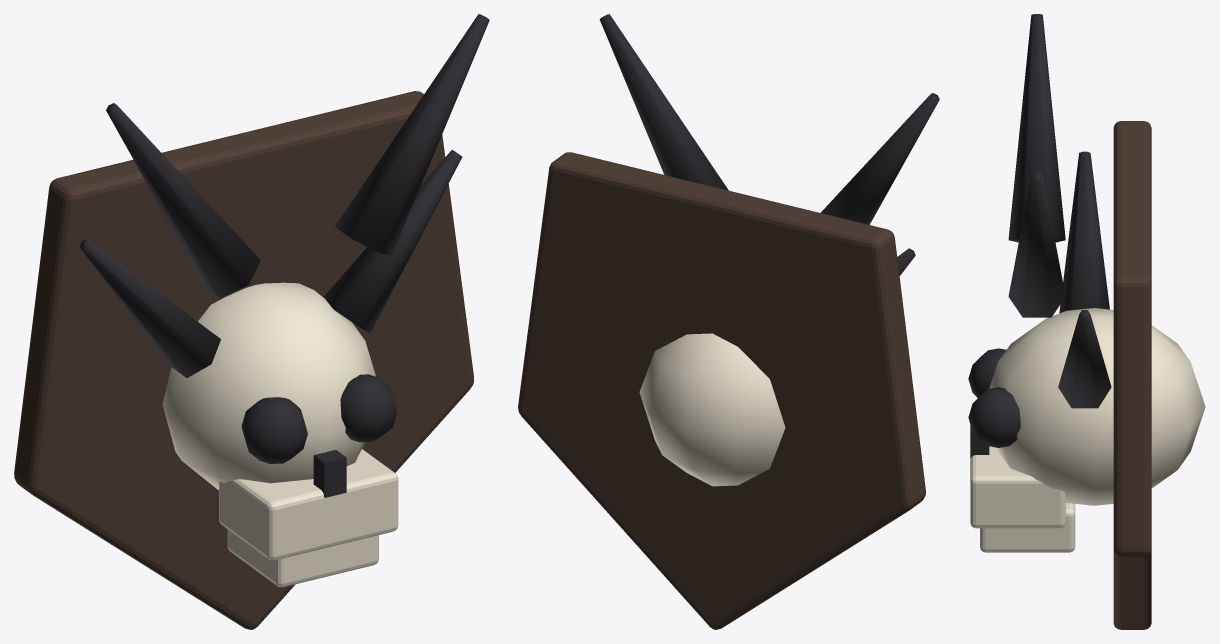
Rendered from skull_mount_demon.glb.
3 views of the same model, side by side, from view 1: azimuth 30°, elevation 25°; view 2: azimuth 150°, elevation 25°; view 3: azimuth 270°, elevation 25° (orthographic). The views are drawn at different scales.
Visible parts, largest first — view 1: GD_skull_mount_demon__m0, GD_skull_mount_demon__m1, GD_skull_mount_demon__m2; view 2: GD_skull_mount_demon__m0, GD_skull_mount_demon__m1, GD_skull_mount_demon__m2; view 3: GD_skull_mount_demon__m1, GD_skull_mount_demon__m2, GD_skull_mount_demon__m0.
Boxes of the visible parts, box(x1,y1,x2,y2) form: GD_skull_mount_demon__m0: box(14, 91, 473, 629); GD_skull_mount_demon__m1: box(162, 282, 398, 587); GD_skull_mount_demon__m2: box(79, 14, 489, 497); GD_skull_mount_demon__m0: box(518, 152, 925, 629); GD_skull_mount_demon__m1: box(639, 333, 785, 486); GD_skull_mount_demon__m2: box(599, 14, 939, 275); GD_skull_mount_demon__m1: box(970, 308, 1205, 552); GD_skull_mount_demon__m2: box(968, 14, 1111, 458); GD_skull_mount_demon__m0: box(1113, 121, 1151, 629).
Bounding box in the file's own units: 0.4779 × 0.6196 × 0.2485.
